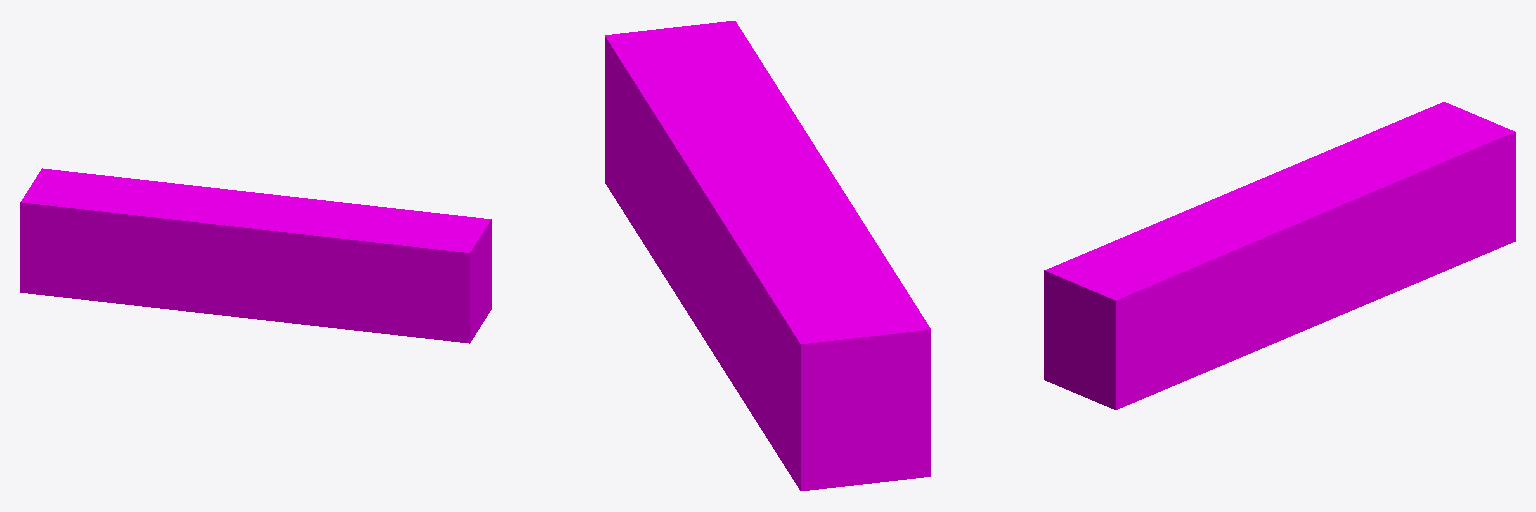
URDF robot description (panda):
<?xml version="1.0" ?>
<!-- =================================================================================== -->
<!-- |    This document was autogenerated by xacro from panda_arm_hand.urdf.xacro      | -->
<!-- |    EDITING THIS FILE BY HAND IS NOT RECOMMENDED                                 | -->
<!-- =================================================================================== -->
<robot name="panda" xmlns:xacro="http://www.ros.org/wiki/xacro">
  <link name="panda_link0">
  	<inertial>
      <origin rpy="0 0 0" xyz="0 0 0.05"/>
       <mass value="2.9"/>
       <inertia ixx="0.1" ixy="0" ixz="0" iyy="0.1" iyz="0" izz="0.1"/>
    </inertial>
    <visual>
      <geometry>
        <mesh filename="package://meshes/collision/link0.obj"/>
      </geometry>
      <material name="panda_white">
    		<color rgba="1. 1. 1. 1."/>
  		</material>
    </visual>
    <collision>
      <geometry>
        <mesh filename="package://meshes/collision/link0.obj"/>
      </geometry>
      <material name="panda_white"/>
    </collision>
  </link>
  <link name="panda_link1">
  	<inertial>
      <origin rpy="0 0 0" xyz="0 -0.04 -0.05"/>
       <mass value="2.7"/>
       <inertia ixx="0.1" ixy="0" ixz="0" iyy="0.1" iyz="0" izz="0.1"/>
    </inertial>
    <visual>
      <geometry>
        <mesh filename="package://meshes/visual/link1.obj"/>
      </geometry>
      <material name="panda_white"/>
    </visual>
    <collision>
      <geometry>
        <mesh filename="package://meshes/collision/link1.obj"/>
      </geometry>
      <material name="panda_white"/>
    </collision>
  </link>
  <joint name="panda_joint1" type="revolute">
    <safety_controller k_position="100.0" k_velocity="40.0" soft_lower_limit="-2.8973" soft_upper_limit="2.8973"/>
    <origin rpy="0 0 0" xyz="0 0 0.333"/>
    <parent link="panda_link0"/>
    <child link="panda_link1"/>
    <axis xyz="0 0 1"/>
    <limit effort="87" lower="-2.9671" upper="2.9671" velocity="2.1750"/>
  </joint>
  <link name="panda_link2">
  	<inertial>
      <origin rpy="0 0 0" xyz="0 -0.04 0.06"/>
       <mass value="2.73"/>
       <inertia ixx="0.1" ixy="0" ixz="0" iyy="0.1" iyz="0" izz="0.1"/>
    </inertial>
    <visual>
      <geometry>
        <mesh filename="package://meshes/visual/link2.obj"/>
      </geometry>
      <material name="panda_white"/>
    </visual>
    <collision>
      <geometry>
        <mesh filename="package://meshes/collision/link2.obj"/>
      </geometry>
      <material name="panda_white"/>
    </collision>
  </link>
  <joint name="panda_joint2" type="revolute">
    <safety_controller k_position="100.0" k_velocity="40.0" soft_lower_limit="-1.7628" soft_upper_limit="1.7628"/>
    <origin rpy="-1.57079632679 0 0" xyz="0 0 0"/>
    <parent link="panda_link1"/>
    <child link="panda_link2"/>
    <axis xyz="0 0 1"/>
    <limit effort="87" lower="-1.8326" upper="1.8326" velocity="2.1750"/>
  </joint>
  <link name="panda_link3">
	  <inertial>
      <origin rpy="0 0 0" xyz="0.01 0.01 -0.05"/>
       <mass value="2.04"/>
       <inertia ixx="0.1" ixy="0" ixz="0" iyy="0.1" iyz="0" izz="0.1"/>
    </inertial>
    <visual>
      <geometry>
        <mesh filename="package://meshes/visual/link3.obj"/>
      </geometry>
      <material name="panda_red">
    		<color rgba="1. 1. 1. 1."/>
  		</material>
    </visual>
    <collision>
      <geometry>
        <mesh filename="package://meshes/collision/link3.obj"/>
      </geometry>
    </collision>
  </link>
  <joint name="panda_joint3" type="revolute">
    <safety_controller k_position="100.0" k_velocity="40.0" soft_lower_limit="-2.8973" soft_upper_limit="2.8973"/>
    <origin rpy="1.57079632679 0 0" xyz="0 -0.316 0"/>
    <parent link="panda_link2"/>
    <child link="panda_link3"/>
    <axis xyz="0 0 1"/>
    <limit effort="87" lower="-2.9671" upper="2.9671" velocity="2.1750"/>
  </joint>
  <link name="panda_link4">
  	<inertial>
      <origin rpy="0 0 0" xyz="-0.03 0.03 0.02"/>
       <mass value="2.08"/>
       <inertia ixx="0.1" ixy="0" ixz="0" iyy="0.1" iyz="0" izz="0.1"/>
    </inertial>
    <visual>
      <geometry>
        <mesh filename="package://meshes/visual/link4.obj"/>
      </geometry>
      <material name="panda_white"/>
    </visual>
    <collision>
      <geometry>
        <mesh filename="package://meshes/collision/link4.obj"/>
      </geometry>
      <material name="panda_white"/>
    </collision>
  </link>
  <joint name="panda_joint4" type="revolute">
    <safety_controller k_position="100.0" k_velocity="40.0" soft_lower_limit="-3.0718" soft_upper_limit="-0.0698"/>
    <origin rpy="1.57079632679 0 0" xyz="0.0825 0 0"/>
    <parent link="panda_link3"/>
    <child link="panda_link4"/>
    <axis xyz="0 0 1"/>
    <limit effort="87" lower="-3.1416" upper="0.0" velocity="2.1750"/>
  </joint>
  <link name="panda_link5">
  	<inertial>
      <origin rpy="0 0 0" xyz="0 0.04 -0.12"/>
       <mass value="3"/>
       <inertia ixx="0.1" ixy="0" ixz="0" iyy="0.1" iyz="0" izz="0.1"/>
    </inertial>
    <visual>
      <geometry>
        <mesh filename="package://meshes/visual/link5.obj"/>
      </geometry>
      <material name="panda_white"/>
    </visual>
    <collision>
      <geometry>
        <mesh filename="package://meshes/collision/link5.obj"/>
      </geometry>
      <material name="panda_white"/>
    </collision>
  </link>
  <joint name="panda_joint5" type="revolute">
    <safety_controller k_position="100.0" k_velocity="40.0" soft_lower_limit="-2.8973" soft_upper_limit="2.8973"/>
    <origin rpy="-1.57079632679 0 0" xyz="-0.0825 0.384 0"/>
    <parent link="panda_link4"/>
    <child link="panda_link5"/>
    <axis xyz="0 0 1"/>
    <limit effort="12" lower="-2.9671" upper="2.9671" velocity="2.6100"/>
  </joint>
  <link name="panda_link6">
  	<inertial>
      <origin rpy="0 0 0" xyz="0.04 0 0"/>
       <mass value="1.3"/>
       <inertia ixx="0.1" ixy="0" ixz="0" iyy="0.1" iyz="0" izz="0.1"/>
    </inertial>
    <visual>
      <geometry>
        <mesh filename="package://meshes/visual/link6.obj"/>
      </geometry>
      <material name="panda_white"/>
    </visual>
    <collision>
      <geometry>
        <mesh filename="package://meshes/collision/link6.obj"/>
      </geometry>
      <material name="panda_white"/>
    </collision>
  </link>
  <joint name="panda_joint6" type="revolute">
    <safety_controller k_position="100.0" k_velocity="40.0" soft_lower_limit="-0.0175" soft_upper_limit="3.7525"/>
    <origin rpy="1.57079632679 0 0" xyz="0 0 0"/>
    <parent link="panda_link5"/>
    <child link="panda_link6"/>
    <axis xyz="0 0 1"/>
    <limit effort="12" lower="-0.0873" upper="3.8223" velocity="2.6100"/>
  </joint>
  <link name="panda_link7">
  	<inertial>
      <origin rpy="0 0 0" xyz="0 0 0.08"/>
       <mass value=".2"/>
       <inertia ixx="0.1" ixy="0" ixz="0" iyy="0.1" iyz="0" izz="0.1"/>
    </inertial>
    <visual>
      <geometry>
        <mesh filename="package://meshes/collision/link7.obj"/>
      </geometry>
      <material name="panda_white"/>
    </visual>
    <collision>
      <geometry>
        <mesh filename="package://meshes/collision/link7.obj"/>
      </geometry>
      <material name="panda_white"/>
    </collision>
  </link>
  <joint name="panda_joint7" type="revolute">
    <safety_controller k_position="100.0" k_velocity="40.0" soft_lower_limit="-2.8973" soft_upper_limit="2.8973"/>
    <origin rpy="1.57079632679 0 0" xyz="0.088 0 0"/>
    <parent link="panda_link6"/>
    <child link="panda_link7"/>
    <axis xyz="0 0 1"/>
    <limit effort="12" lower="-2.9671" upper="2.9671" velocity="2.6100"/>
  </joint>
  <link name="panda_link8">
  	 <inertial>
      <origin rpy="0 0 0" xyz="0 0 0"/>
       <mass value="0.0"/>
       <inertia ixx="0.1" ixy="0" ixz="0" iyy="0.1" iyz="0" izz="0.1"/>
    </inertial>
  </link>
  <joint name="panda_joint8" type="fixed">
    <origin rpy="0 0 0" xyz="0 0 0.107"/>
    <parent link="panda_link7"/>
    <child link="panda_link8"/>
    <axis xyz="0 0 0"/>
  </joint>
  <joint name="panda_hand_joint" type="fixed">
    <parent link="panda_link8"/>
    <child link="panda_hand"/>
    <origin rpy="0 0 -0.785398163397" xyz="0 0 0"/>
  </joint>
  <link name="panda_hand">
  	<inertial>
      <origin rpy="0 0 0" xyz="0 0 0.04"/>
       <mass value=".81"/>
       <inertia ixx="0.1" ixy="0" ixz="0" iyy="0.1" iyz="0" izz="0.1"/>
    </inertial>
    <visual>
      <geometry>
        <mesh filename="package://meshes/visual/hand.obj"/>
      </geometry>
      <material name="panda_white"/>
    </visual>
    <collision>
      <geometry>
        <mesh filename="package://meshes/collision/hand.obj"/>
      </geometry>
      <material name="panda_white"/>
    </collision>
  </link>
  <link name="panda_leftfinger">
       <contact>
      <friction_anchor/>
      <stiffness value="30000.0"/>
      <damping value="1000.0"/>
      <spinning_friction value="0.1"/>
      <lateral_friction value="1.0"/>
    </contact>
  	<inertial>
      <origin rpy="0 0 0" xyz="0 0.01 0.02"/>
       <mass value="0.1"/>
       <inertia ixx="0.1" ixy="0" ixz="0" iyy="0.1" iyz="0" izz="0.1"/>
    </inertial>
    <visual>
      <geometry>
        <mesh filename="package://meshes/visual/finger.obj"/>
      </geometry>
      <material name="panda_white"/>
    </visual>
    <collision>
      <geometry>
        <mesh filename="package://meshes/collision/finger.obj"/>
      </geometry>
      <material name="panda_white"/>
    </collision>
  </link>
  <link name="panda_rightfinger">
        <contact>
      <friction_anchor/>
      <stiffness value="30000.0"/>
      <damping value="1000.0"/>
      <spinning_friction value="0.1"/>
      <lateral_friction value="1.0"/>
    </contact>

  	<inertial>
      <origin rpy="0 0 0" xyz="0 -0.01 0.02"/>
       <mass value="0.1"/>
       <inertia ixx="0.1" ixy="0" ixz="0" iyy="0.1" iyz="0" izz="0.1"/>
    </inertial>
    <visual>
      <origin rpy="0 0 3.14159265359" xyz="0 0 0"/>
      <geometry>
        <mesh filename="package://meshes/visual/finger.obj"/>
      </geometry>
      <material name="panda_white"/>
    </visual>
    <collision>
      <origin rpy="0 0 3.14159265359" xyz="0 0 0"/>
      <geometry>
        <mesh filename="package://meshes/collision/finger.obj"/>
      </geometry>
      <material name="panda_white"/>
    </collision>
  </link>
  <joint name="panda_finger_joint1" type="prismatic">
    <parent link="panda_hand"/>
    <child link="panda_leftfinger"/>
    <origin rpy="0 0 0" xyz="0 0 0.0584"/>
    <axis xyz="0 1 0"/>
    <limit effort="20" lower="0.0" upper="0.04" velocity="0.2"/>
  </joint>
  <joint name="panda_finger_joint2" type="prismatic">
    <parent link="panda_hand"/>
    <child link="panda_rightfinger"/>
    <origin rpy="0 0 0" xyz="0 0 0.0584"/>
    <axis xyz="0 -1 0"/>
    <limit effort="20" lower="0.0" upper="0.04" velocity="0.2"/>
    <mimic joint="panda_finger_joint1"/>
  </joint>
  <link name="panda_grasptarget">
    <inertial>
      <origin rpy="0 0 0" xyz="0 0 0"/>
       <mass value="0.0"/>
       <inertia ixx="0.1" ixy="0" ixz="0" iyy="0.1" iyz="0" izz="0.1"/>
    </inertial>
   </link>
   <joint name="panda_grasptarget_hand" type="fixed">
    <parent link="panda_hand"/>
    <child link="panda_grasptarget"/>
    <origin rpy="0 0 0" xyz="0 0 0.105"/>
  </joint>
  <link name="camera">
    <contact>
      <friction_anchor/>
      <stiffness value="30000.0"/>
      <damping value="1000.0"/>
      <spinning_friction value="0.1"/>
      <lateral_friction value="1.0"/>
    </contact>
    <inertial>
      <origin rpy="0 0 0" xyz="0 0 0"/>
      <mass value="0.0"/>
      <inertia ixx="0.1" ixy="0" ixz="0" iyy="0.1" iyz="0" izz="0.1"/>
    </inertial>
    <visual>
      <origin rpy="0 0 0" xyz="0 0 0"/>
      <geometry>
        <box size="0.025 0.14 0.03"/>
      </geometry>
      <material name="bold pink">
        <color rgba="1 0 1 1"/>
      </material>
    </visual>
    <collision>
      <origin rpy="0 0 0" xyz="0 0 0"/>
      <geometry>
        <box size="0.025 0.14 0.03"/>
      </geometry>
    </collision>
  </link>
  <joint name="camera_joint" type="fixed">
    <parent link="panda_grasptarget"/>
    <child link="camera"/>
    <origin rpy="0 0 0" xyz="0.057373 0.0 -0.073"/>
  </joint>
</robot>

--- Facts derived from the render (not from the file) ---
The picture shows the robot from 3 angles, left to right: view 1: azimuth 30°, elevation 25°; view 2: azimuth 150°, elevation 25°; view 3: azimuth 270°, elevation 25°; orthographic projection.
Robot: panda — 14 links, 13 joints (7 revolute, 2 prismatic, 4 fixed); root link panda_link0; default pose: all joints at 0.
Links seen in each view (by area): view 1: camera; view 2: camera; view 3: camera.
Link boxes in pixels (x1,y1,x2,y2): camera: (20,168,491,343); camera: (605,21,930,490); camera: (1044,102,1515,409).
Bounding box of the posed robot: 0.1167 × 0.1167 × 0.03 m (x, y, z).
Meshes: 10 distinct files referenced, 0 mesh visuals loaded (none loaded); not drawn: 11 (reference not matched to a file when rendering).